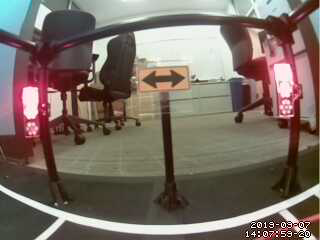Left_Right_sign: (132, 67, 190, 91)
Traffic_light_red: (275, 59, 293, 115), (25, 87, 40, 136)
